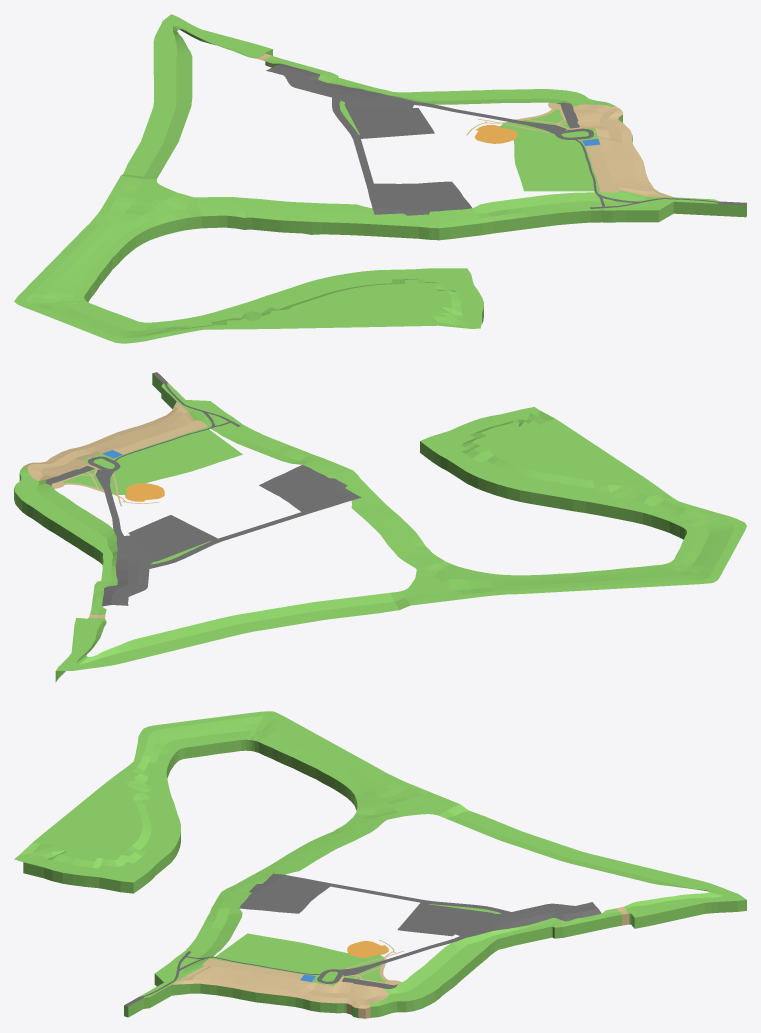
File: harbor_ground.glb
3 renders of one model, top to bottom at view 1: azimuth 30°, elevation 25°; view 2: azimuth 150°, elevation 25°; view 3: azimuth 270°, elevation 25°, orthographic. The views are drawn at different scales.
Parts seen in each view (by area): view 1: Ground-col; view 2: Ground-col; view 3: Ground-col.
Part boxes in pixels (x1,y1,x2,y2): Ground-col: (14, 14, 746, 343); Ground-col: (14, 372, 746, 682); Ground-col: (14, 711, 746, 1018).
Size of the model in its own units: 766 by 17.92 by 808.
Materials: 1 (1 with a texture image).
